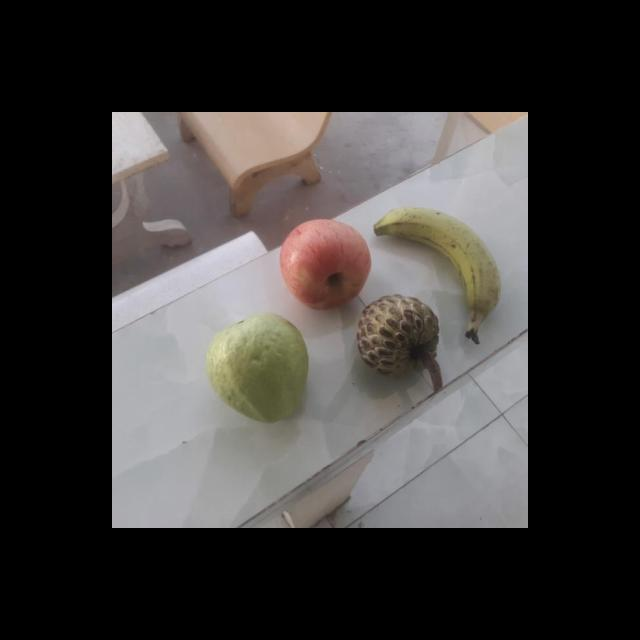Sakya fruit: (352, 292, 441, 382)
apple: (274, 219, 374, 311)
banana: (366, 204, 500, 334)
guava: (200, 316, 308, 422)
